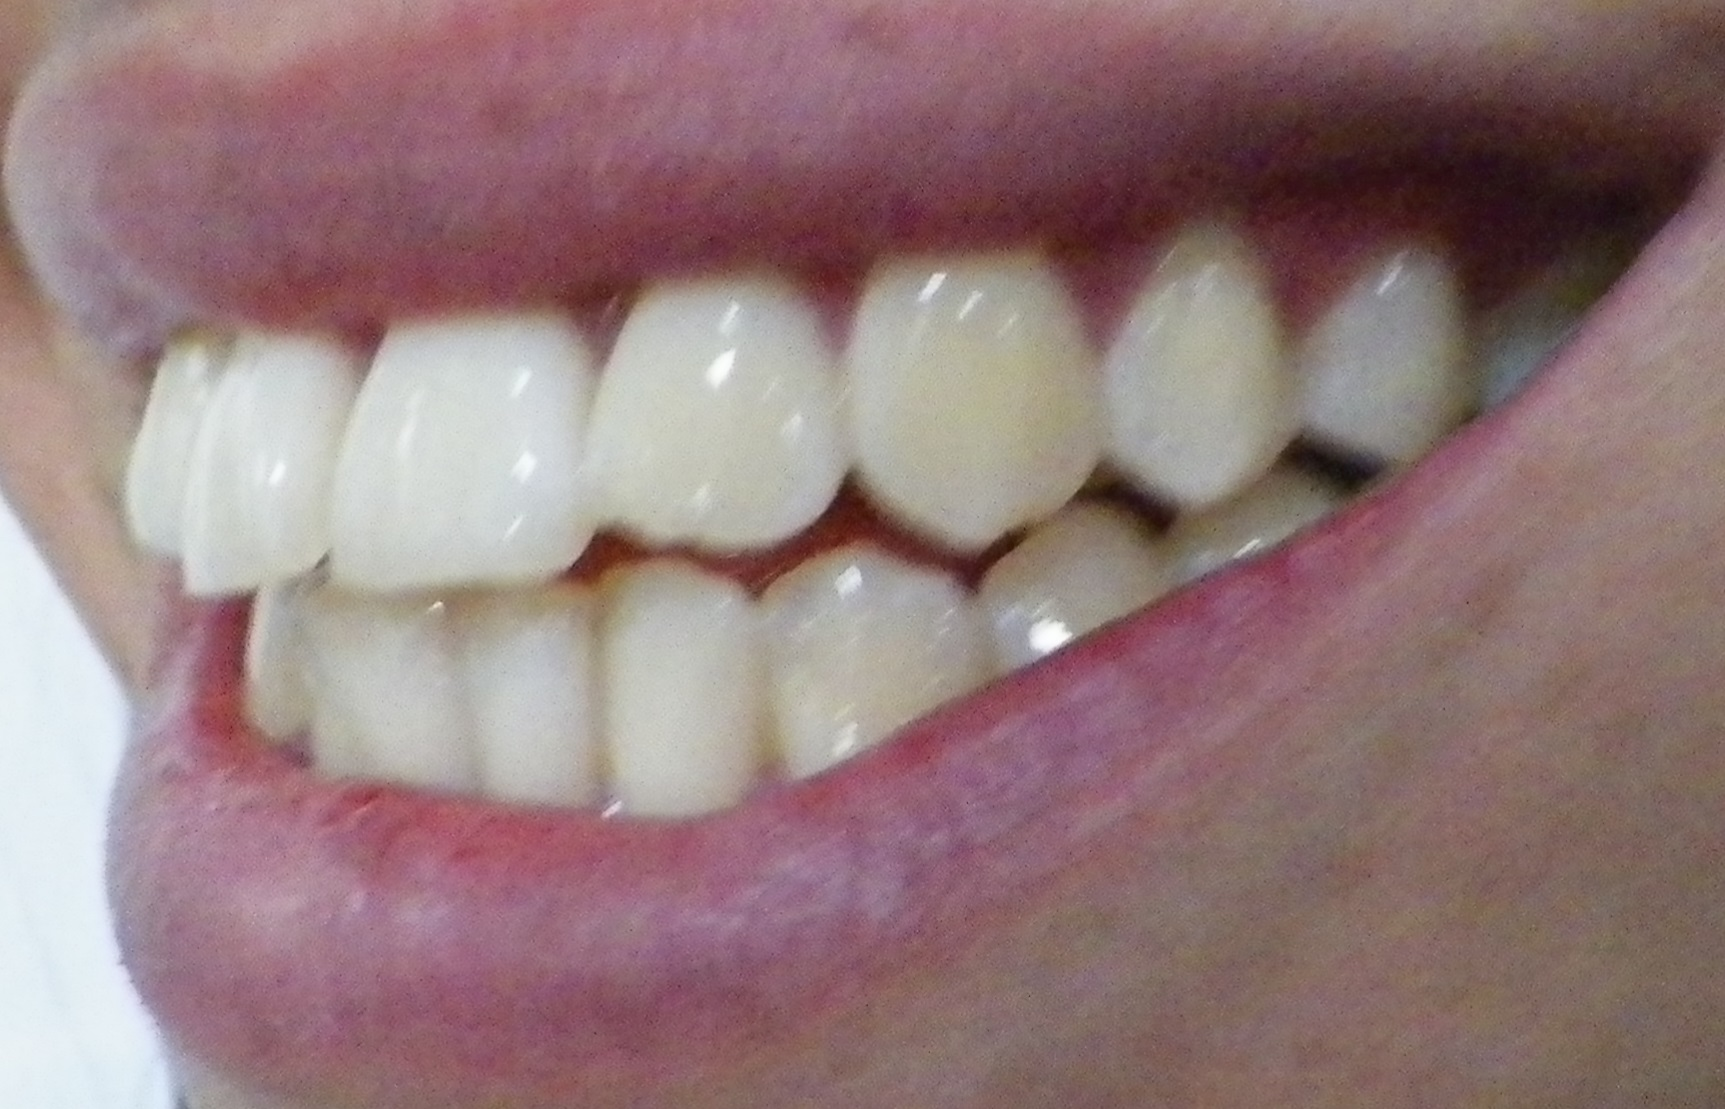boca: (124, 229, 1626, 805)
